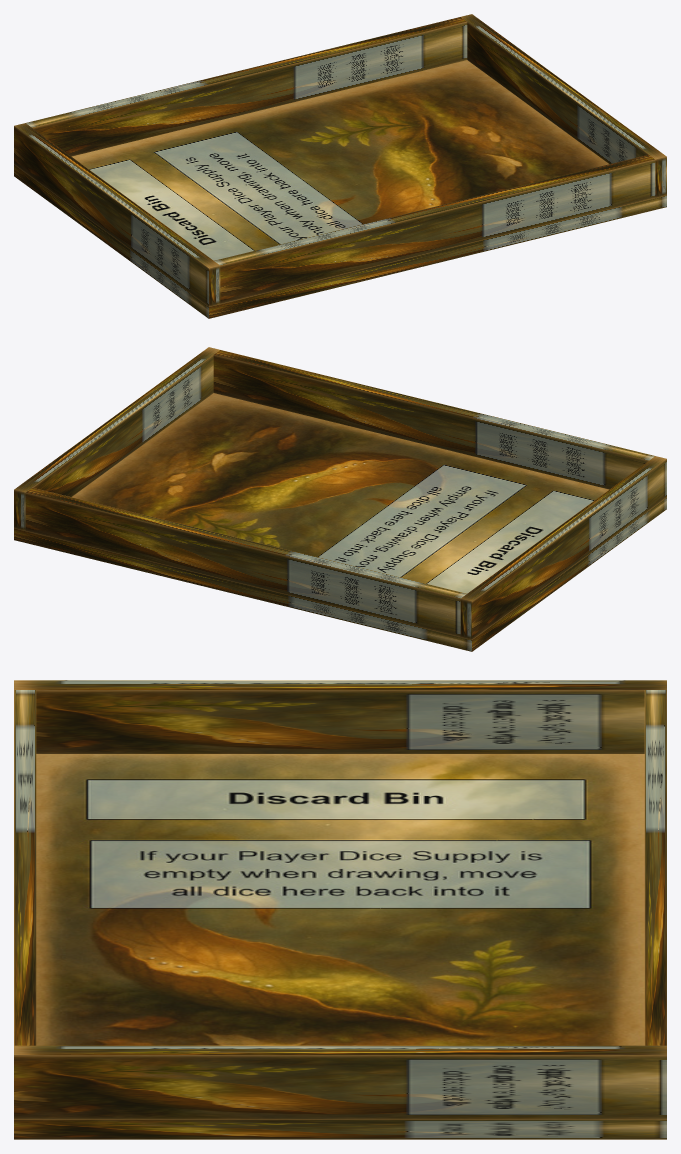
Rendered from Player_Box_Lid.obj.
3 renders of one model, top to bottom at view 1: azimuth 30°, elevation 25°; view 2: azimuth 150°, elevation 25°; view 3: azimuth 270°, elevation 25°, orthographic. The views are drawn at different scales.
Parts seen in each view (by area): view 1: Player_Box_Lid; view 2: Player_Box_Lid; view 3: Player_Box_Lid.
Part boxes in pixels (x1=…): Player_Box_Lid: x1=14, y1=14, x2=666, y2=318; Player_Box_Lid: x1=14, y1=347, x2=666, y2=651; Player_Box_Lid: x1=14, y1=680, x2=666, y2=1139.
Bounding box in the file's own units: 6.94 × 0.73 × 5.11.
Materials: 1 (1 with a texture image).
